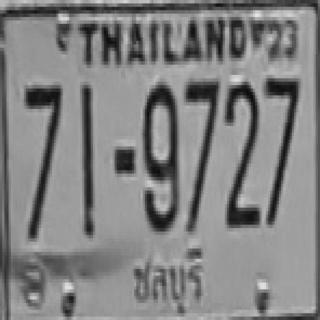N00: (143, 82, 177, 228)
N01: (80, 82, 93, 235)
N02: (224, 80, 258, 226)
N07: (24, 82, 61, 235), (184, 78, 218, 228), (264, 75, 298, 221), (184, 78, 218, 204), (24, 83, 61, 192), (264, 75, 298, 177), (184, 78, 218, 177)
N09: (143, 82, 177, 228)
P13: (124, 243, 214, 320)
